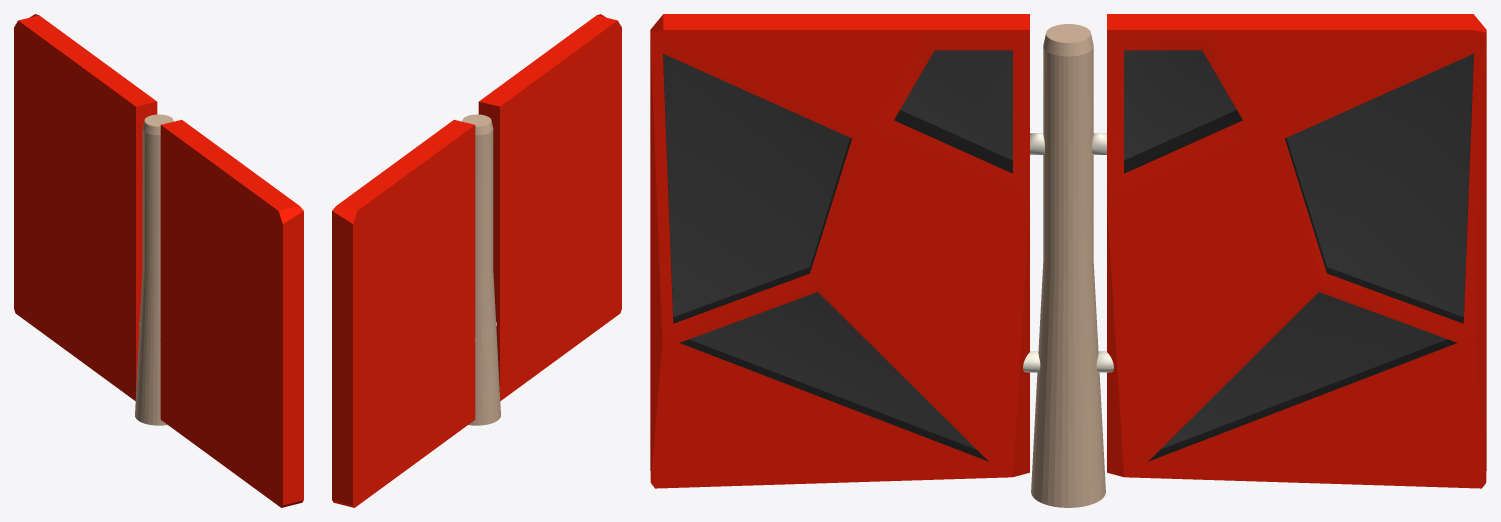
The model's file is TpanelTextured.fbx.
3 renders of one model, left to right at view 1: azimuth 30°, elevation 25°; view 2: azimuth 150°, elevation 25°; view 3: azimuth 270°, elevation 25°, orthographic. The views are drawn at different scales.
Parts seen in each view (by area): view 1: Cube, Cylinder; view 2: Cube, Cylinder; view 3: Cube, Cylinder.
Boxes of the visible parts, left/top/right/bottom form: Cube: left=14, top=14, right=303, bottom=507; Cylinder: left=135, top=114, right=173, bottom=425; Cube: left=332, top=14, right=621, bottom=507; Cylinder: left=462, top=114, right=500, bottom=425; Cube: left=650, top=14, right=1486, bottom=488; Cylinder: left=1031, top=24, right=1105, bottom=507.
Size of the model in its own units: 59.22 by 410 by 661.
